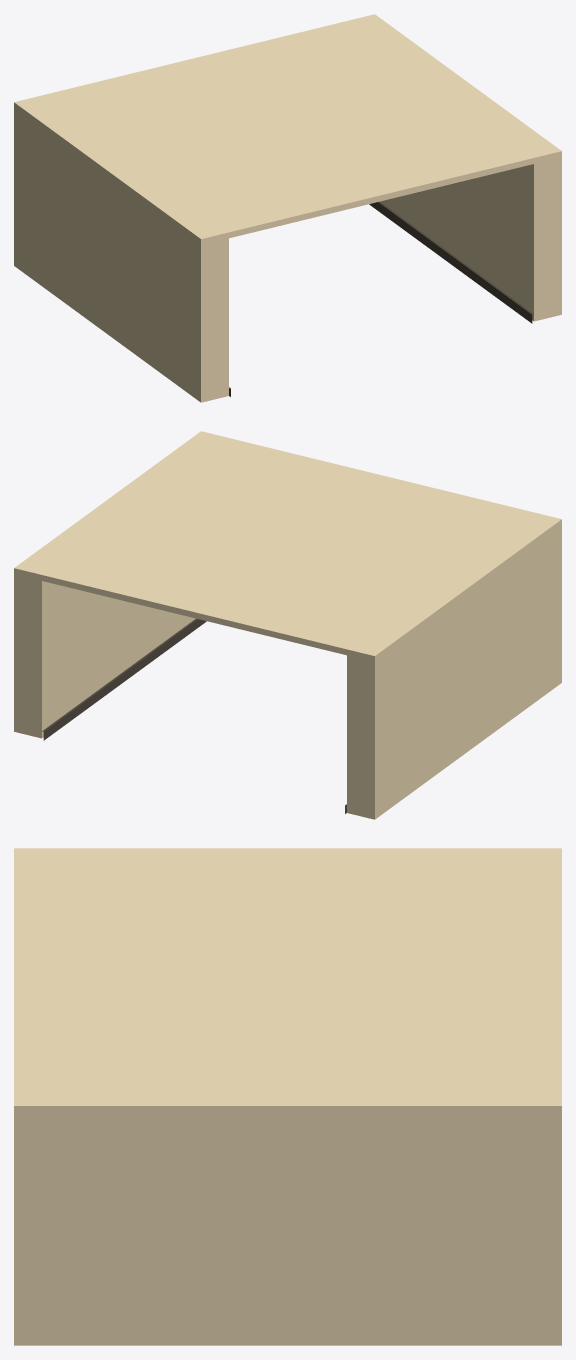
Rendered from Walls.fbx.
3 renders of one model, top to bottom at view 1: azimuth 30°, elevation 25°; view 2: azimuth 150°, elevation 25°; view 3: azimuth 270°, elevation 25°, orthographic. The views are drawn at different scales.
Visible parts, largest first — view 1: Walls; view 2: Walls; view 3: Walls.
Part boxes in pixels (x1,y1,x2,y2): Walls: [14, 14, 561, 402]; Walls: [14, 431, 561, 819]; Walls: [14, 848, 561, 1345].
Size of the model in its own units: 2227 by 975 by 2000.
Materials: 1 (1 with a texture image).
